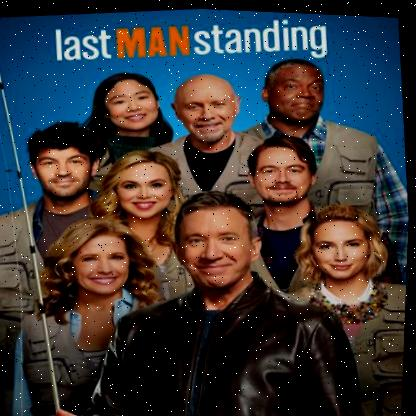person: (31, 169, 380, 416), (241, 46, 415, 289), (15, 208, 175, 415), (279, 197, 409, 416), (0, 112, 118, 345), (232, 129, 339, 301), (164, 66, 258, 198), (96, 141, 188, 235), (86, 65, 173, 161)
